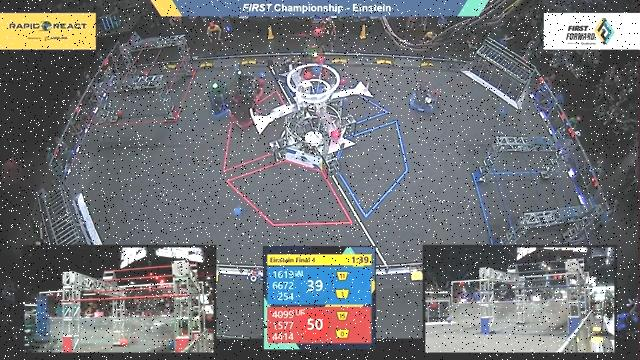Robot: (230, 62, 270, 105), (227, 91, 266, 134), (200, 78, 235, 121), (296, 43, 328, 84), (406, 79, 440, 116), (273, 48, 302, 84)
